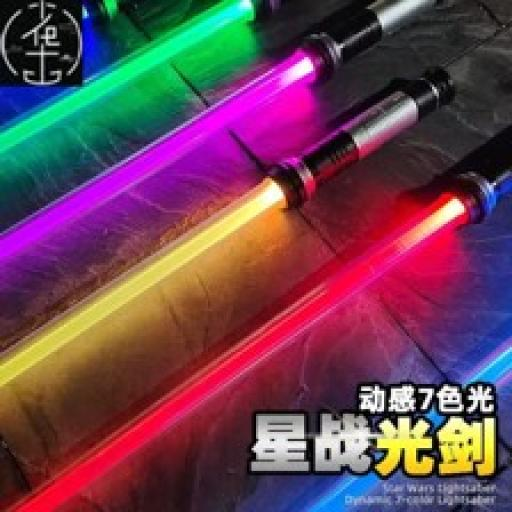lightsaber: (0, 72, 453, 391), (0, 0, 439, 266)
sith saber: (4, 153, 508, 512)
